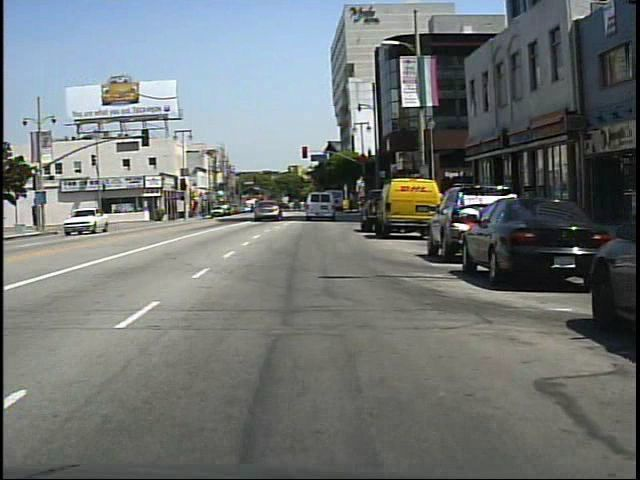person: (253, 192, 270, 222), (90, 202, 106, 230)
